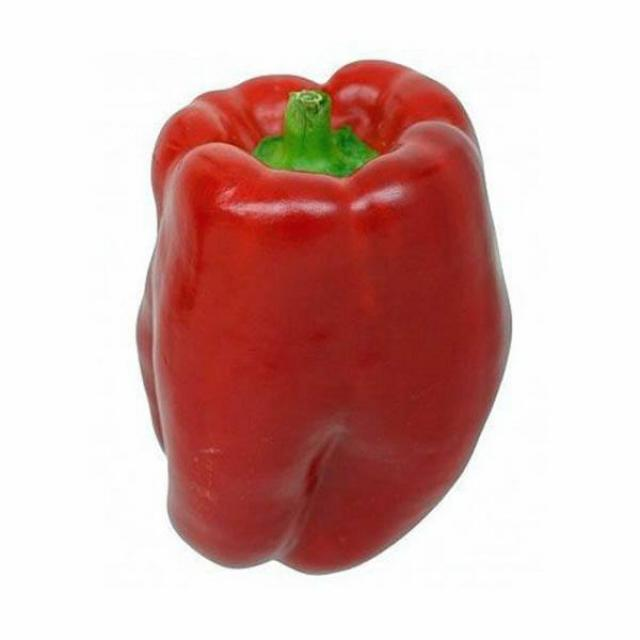bell pepper: (86, 32, 583, 640)
